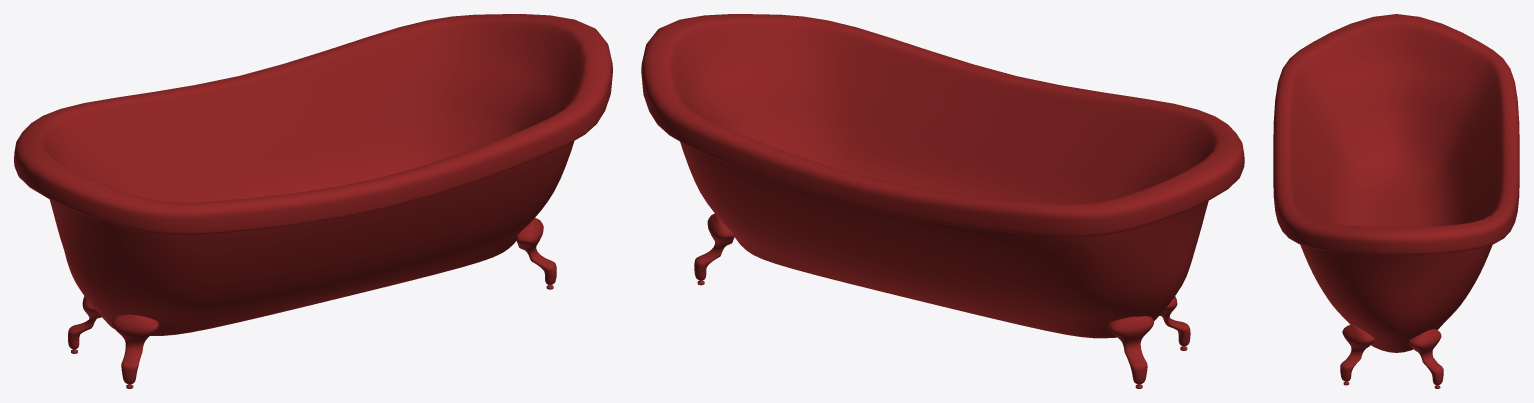
Rendered from Bathtub.fbx.
The picture shows the model from 3 angles, left to right: view 1: azimuth 30°, elevation 25°; view 2: azimuth 150°, elevation 25°; view 3: azimuth 270°, elevation 25°; orthographic projection. The views are drawn at different scales.
Visible parts, largest first — view 1: Bathtub, Bathtub_Leg9 (×2), Bathtub_Leg1; view 2: Bathtub, Bathtub_Leg9 (×2), Bathtub_Leg1; view 3: Bathtub, Bathtub_Leg9 (×2).
Boxes of the visible parts, x1,y1,x2,y2 form: Bathtub: (14,14,612,335); Bathtub_Leg9 (×2): (112,218,556,384); Bathtub_Leg1: (68,296,101,349); Bathtub: (641,14,1244,338); Bathtub_Leg9 (×2): (694,213,1190,346); Bathtub_Leg1: (1107,316,1153,384); Bathtub: (1273,14,1519,352); Bathtub_Leg9 (×2): (1340,324,1443,385).
Bounding box in the file's own units: 16.67 × 6.19 × 7.7.
